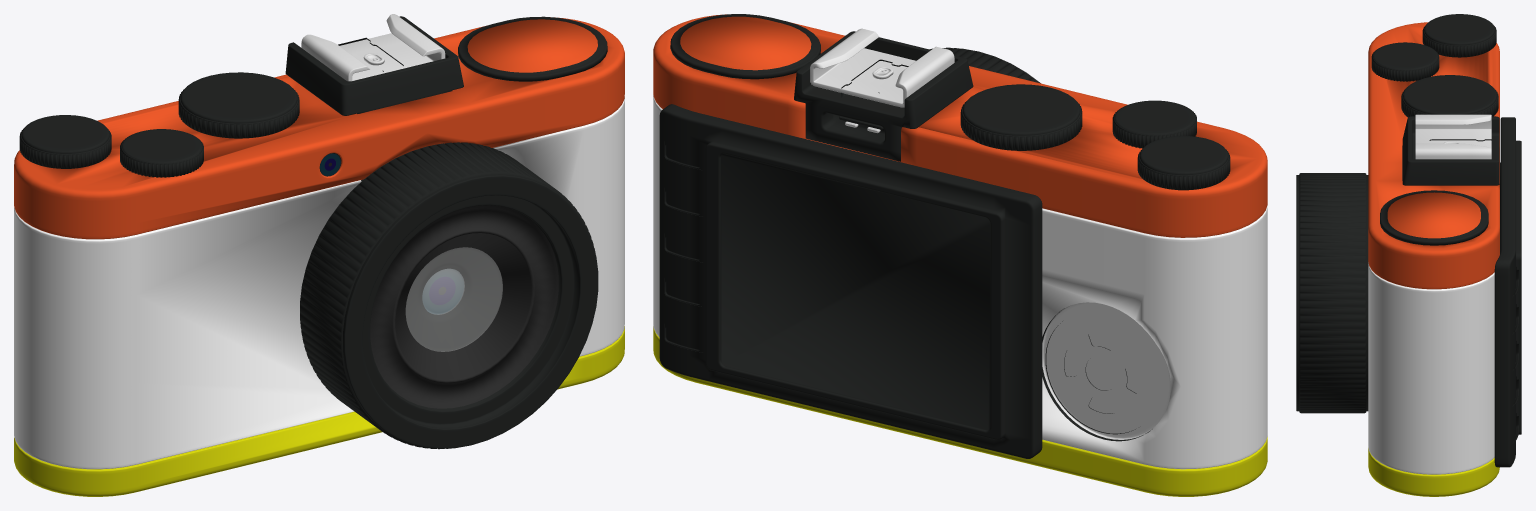
Rendered from camera.glb.
3 views of the same model, side by side, from view 1: azimuth 30°, elevation 25°; view 2: azimuth 150°, elevation 25°; view 3: azimuth 270°, elevation 25° (orthographic). The views are drawn at different scales.
Parts seen in each view (by area): view 1: middle body, lens, top, top buttons, bottom, Cube.005, lens glass.001, lens glass; view 2: display, middle body, top, top buttons, Cube.005, buttons front, bottom, lens; view 3: middle body, lens, top, top buttons, display, Cube.005, bottom.
Boxes of the visible parts, left/top/right/bottom form: middle body: left=14, top=96, right=624, bottom=469; lens: left=300, top=142, right=598, bottom=449; top: left=14, top=17, right=624, bottom=239; top buttons: left=19, top=16, right=607, bottom=177; bottom: left=14, top=326, right=624, bottom=496; Cube.005: left=285, top=14, right=463, bottom=115; lens glass.001: left=406, top=247, right=502, bottom=351; lens glass: left=422, top=269, right=464, bottom=314; display: left=659, top=104, right=1042, bottom=458; middle body: left=653, top=95, right=1267, bottom=469; top: left=653, top=14, right=1267, bottom=237; top buttons: left=670, top=14, right=1230, bottom=190; Cube.005: left=794, top=28, right=973, bottom=161; buttons front: left=1042, top=302, right=1170, bottom=441; bottom: left=653, top=326, right=1267, bottom=496; lens: left=930, top=47, right=1040, bottom=83; middle body: left=1368, top=262, right=1494, bottom=474; lens: left=1296, top=173, right=1368, bottom=413; top: left=1368, top=22, right=1499, bottom=289; top buttons: left=1371, top=14, right=1498, bottom=245; display: left=1494, top=117, right=1521, bottom=467; Cube.005: left=1402, top=114, right=1499, bottom=185; bottom: left=1368, top=448, right=1499, bottom=496.
Size of the model in its own units: 0.8174 by 0.4552 by 0.3361.
